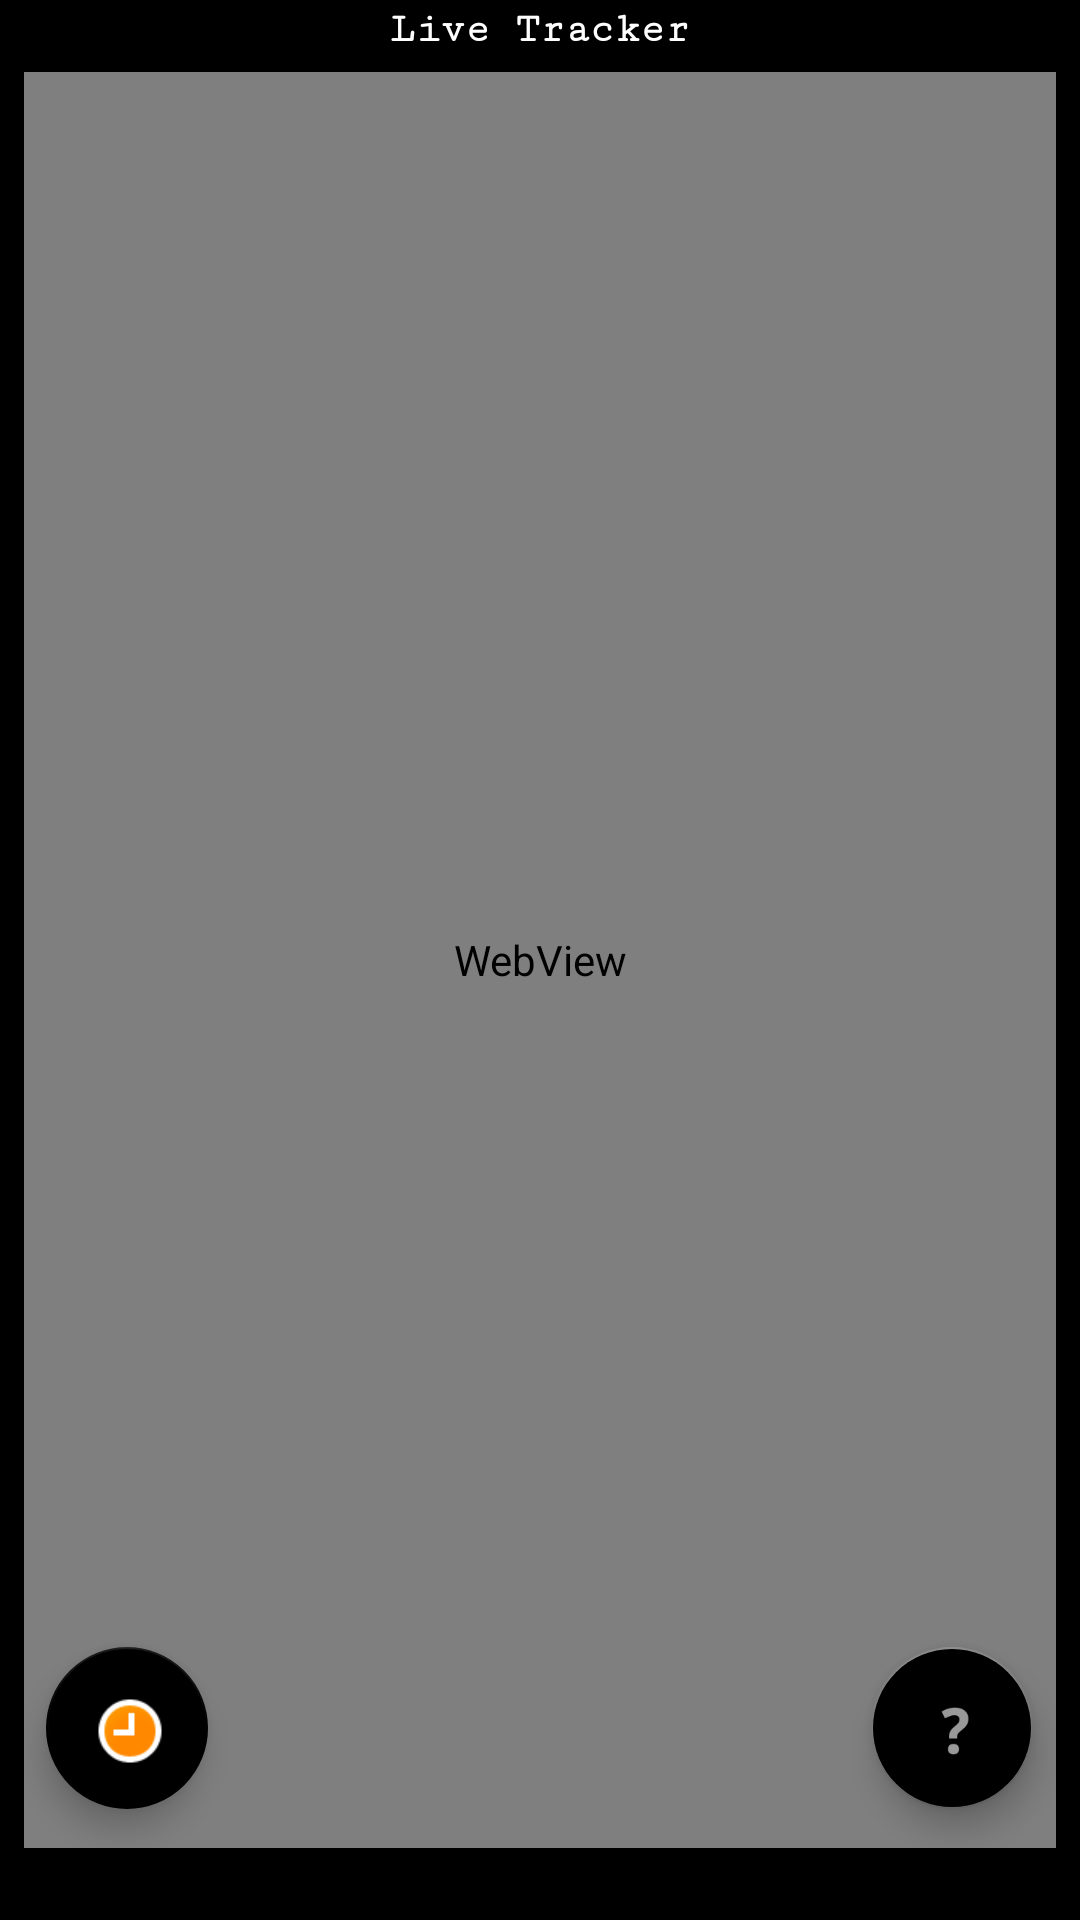

Named icons in this screenshot (1080px x 1920px) and their centers, point (x, y):
help: point (952, 1729)
presence away: point (127, 1728)
